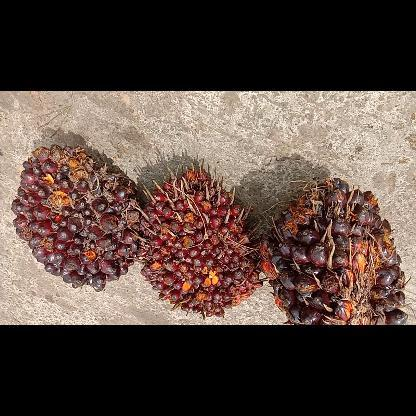Kurang masak: (11, 145, 141, 292), (141, 163, 262, 316)
TBS masak: (260, 176, 408, 324)
